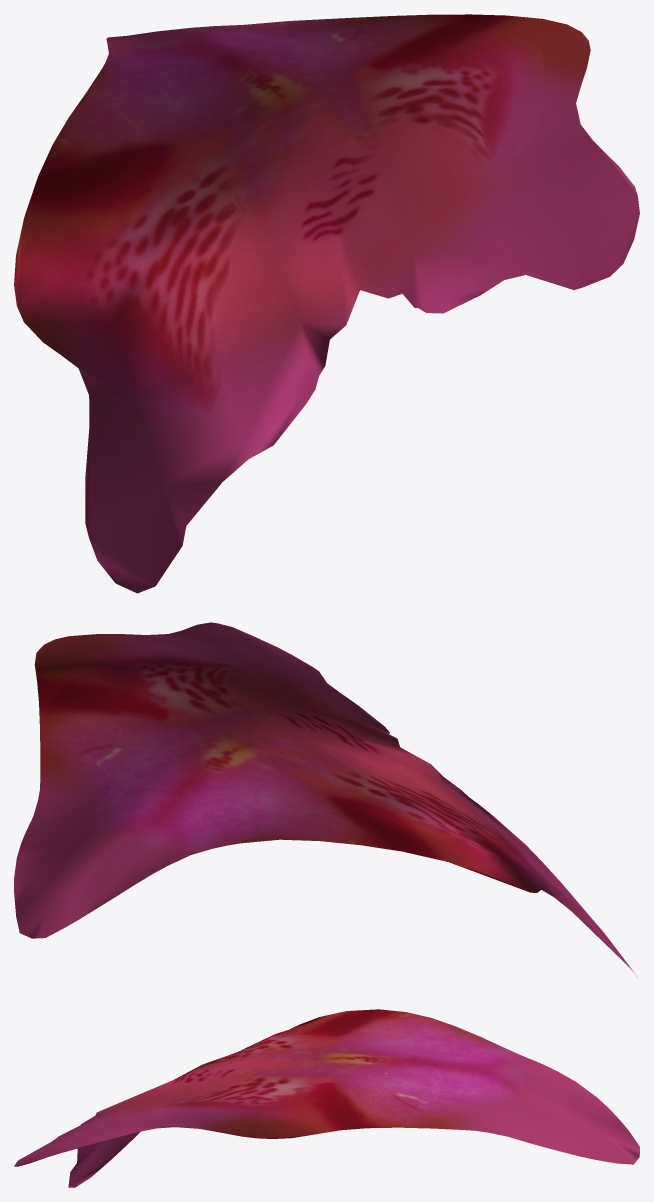
File: flower3.glb
The picture shows the model from 3 angles, top to bottom: view 1: azimuth 30°, elevation 25°; view 2: azimuth 150°, elevation 25°; view 3: azimuth 270°, elevation 25°; orthographic projection. The views are drawn at different scales.
Visible parts, largest first — view 1: 넓적세모 (Copy); view 2: 넓적세모 (Copy); view 3: 넓적세모 (Copy).
Part boxes in pixels (x1,y1,x2,y2): 넓적세모 (Copy): (14,14,639,593); 넓적세모 (Copy): (14,622,637,977); 넓적세모 (Copy): (14,1009,639,1187).
Size of the model in its own units: 39.8 by 21.81 by 45.15.
1 material, 1 textured.
